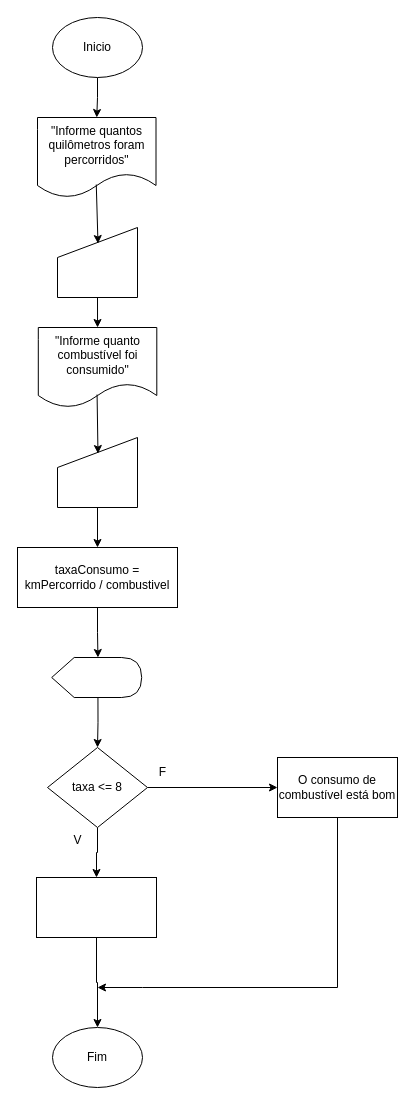
The diagram is 415 pixels wide and 1105 high, and some of its shapes have lost their labels. Here are the shapes that lost their labels. From the top down, the centre of each, then its label:
(97,262): KmP
(97,472): Comb
(96,677): taxaConsumo
(96,907): O automóvel está consumindo muito combustível
